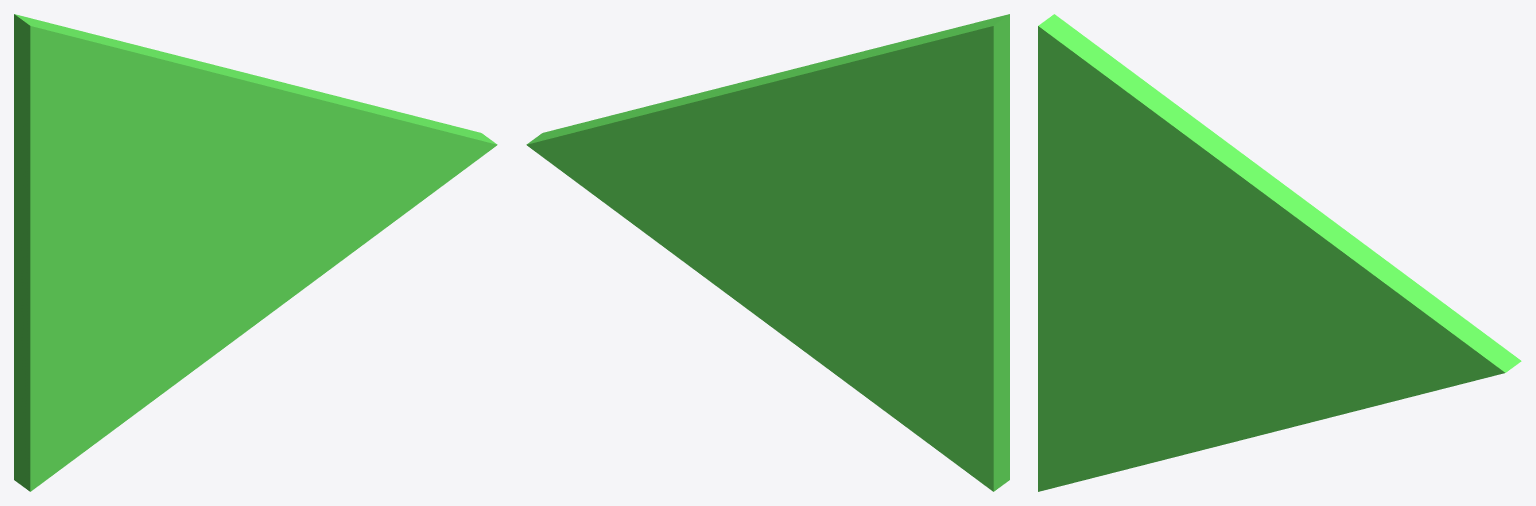
Rendered from PlayButton.glb.
3 views of the same model, side by side, from view 1: azimuth 30°, elevation 25°; view 2: azimuth 150°, elevation 25°; view 3: azimuth 330°, elevation 25° (orthographic).
Visible parts, largest first — view 1: Cube; view 2: Cube; view 3: Cube.
Boxes of the visible parts, left/top/right/bottom form: Cube: left=14, top=14, right=497, bottom=491; Cube: left=526, top=14, right=1009, bottom=491; Cube: left=1038, top=14, right=1521, bottom=491.
Bounding box in the file's own units: 0.2758 × 0.2628 × 0.0166.
1 material, 1 textured.
